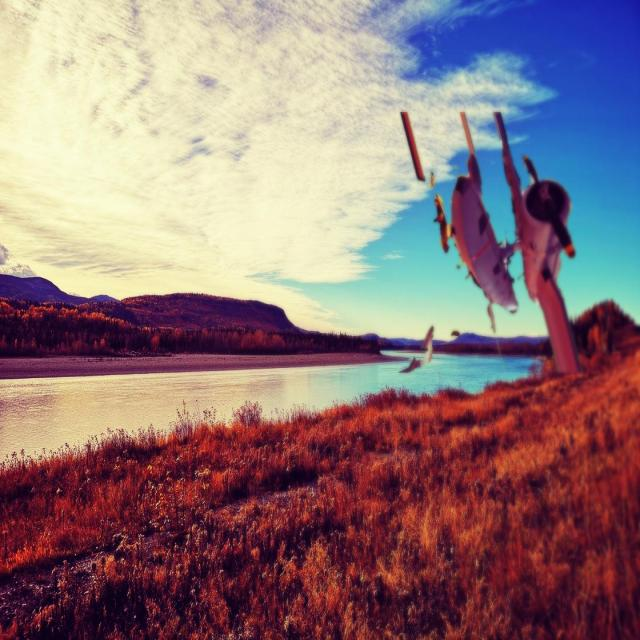airplane: (400, 108, 582, 374)
